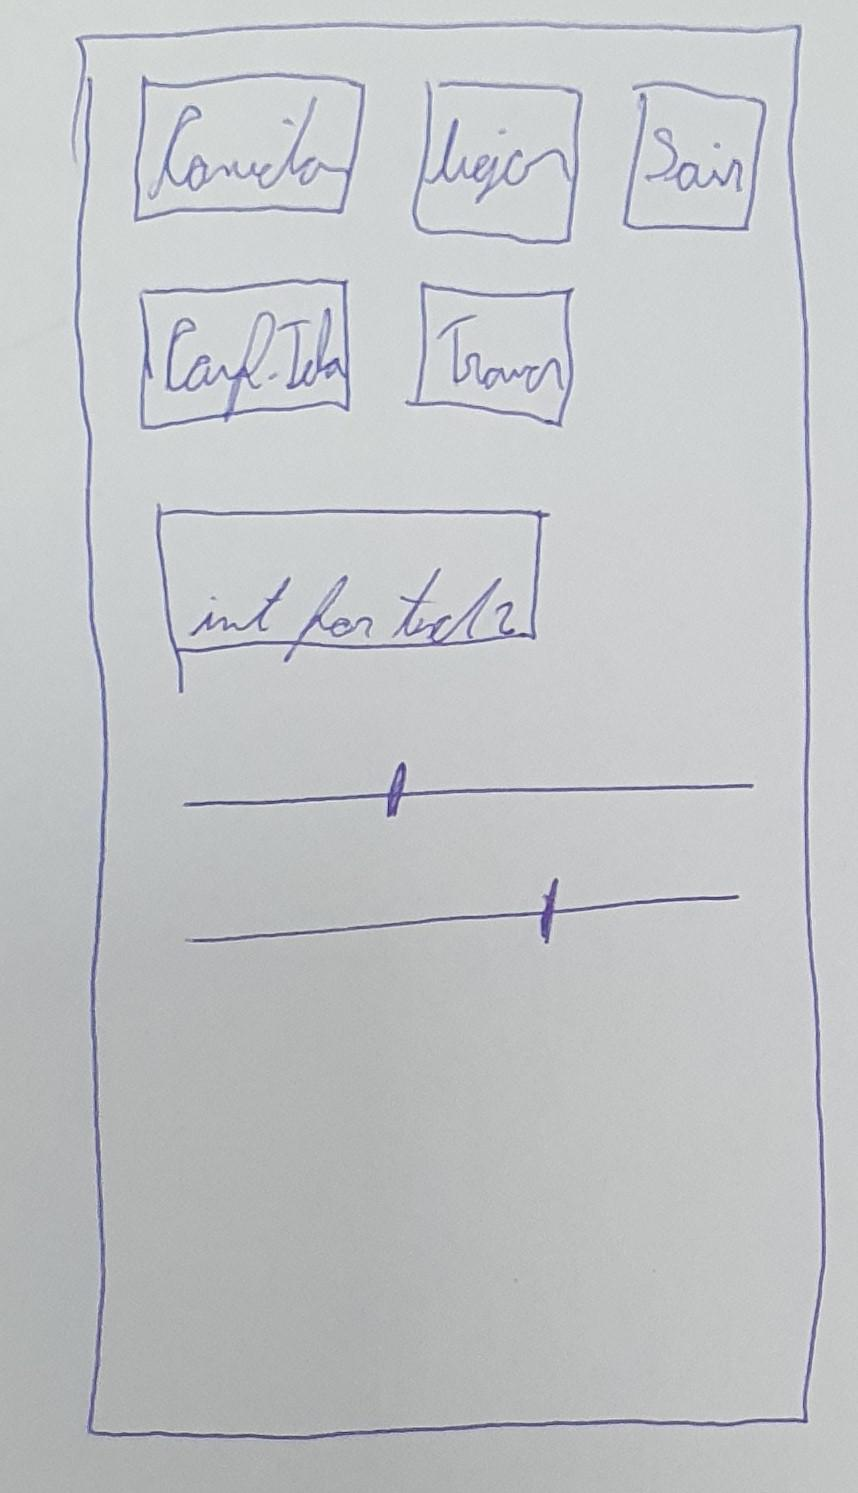Button: (154, 505, 544, 647), (133, 74, 365, 224), (138, 277, 350, 432), (410, 77, 582, 244), (407, 283, 572, 430), (623, 82, 767, 230)
Screen: (72, 25, 825, 1439)
Slider: (186, 876, 744, 949), (179, 761, 753, 824)
